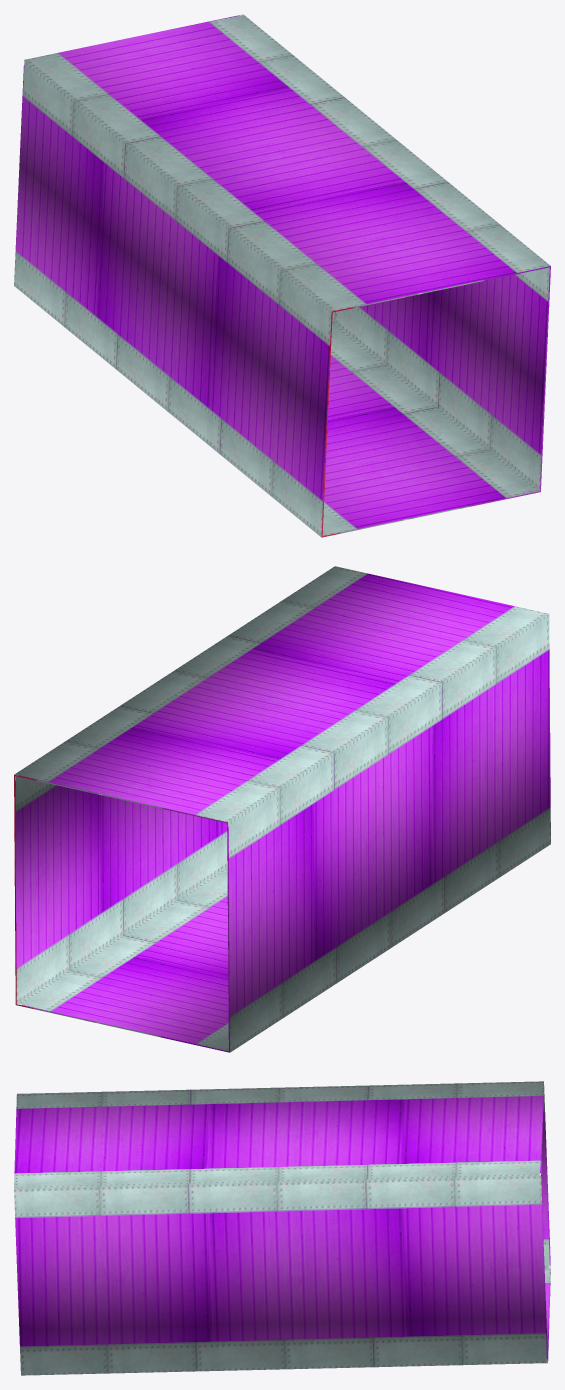
3 views of the same model, one above another, from view 1: azimuth 30°, elevation 25°; view 2: azimuth 150°, elevation 25°; view 3: azimuth 270°, elevation 25° (orthographic). The views are drawn at different scales.
Visible parts, largest first — view 1: Tube001; view 2: Tube001; view 3: Tube001.
Boxes of the visible parts, x1,y1,x2,y2 form: Tube001: (14, 14, 550, 537); Tube001: (14, 566, 550, 1052); Tube001: (14, 1081, 550, 1375).
Bounding box in the file's own units: 7.59 × 7.92 × 18.26.
1 material, 1 textured.
